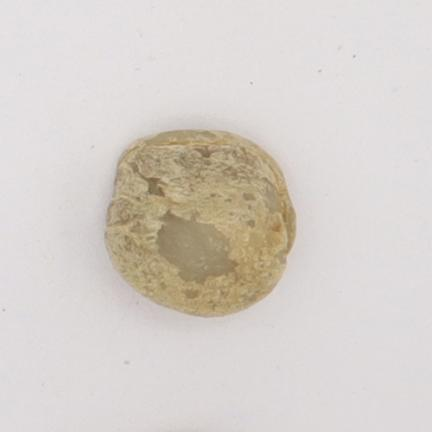husk: (106, 131, 295, 315)
